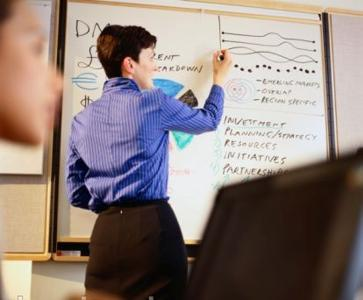person: (67, 24, 232, 296)
